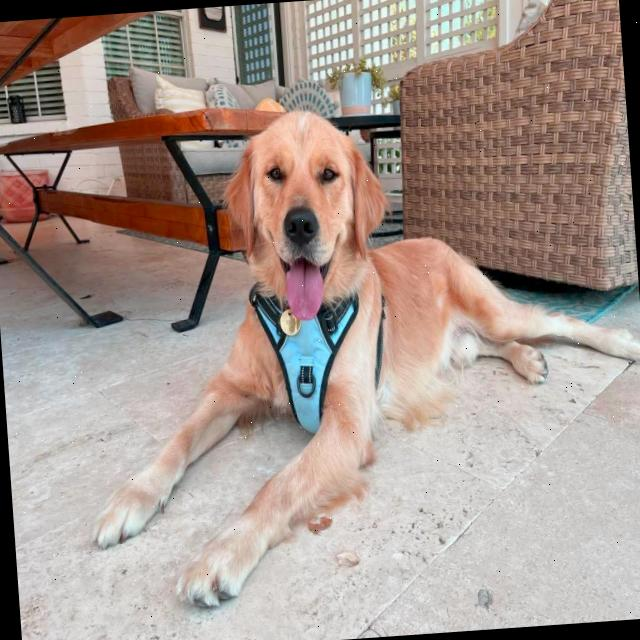golden_retriever_dog: (208, 99, 410, 342)
